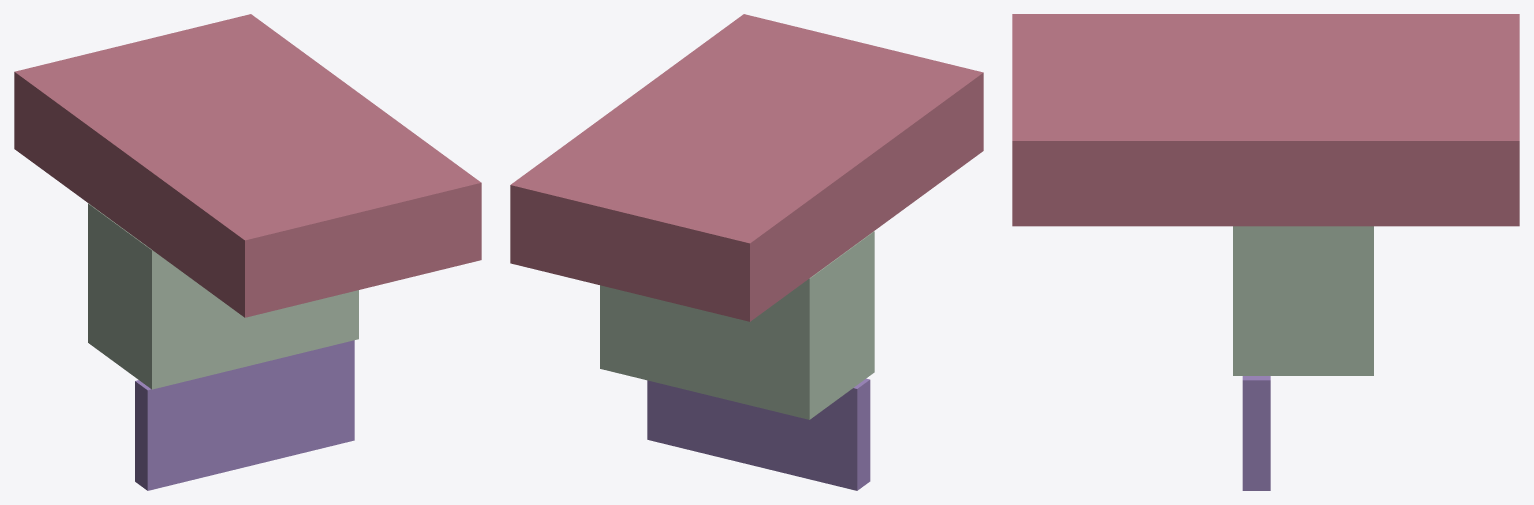
3 views of the same model, side by side, from view 1: azimuth 30°, elevation 25°; view 2: azimuth 150°, elevation 25°; view 3: azimuth 270°, elevation 25° (orthographic). The views are drawn at different scales.
Visible parts, largest first — view 1: world; view 2: world; view 3: world.
Part boxes in pixels (bbox=[...]): world: bbox=[14, 14, 481, 490]; world: bbox=[510, 14, 983, 490]; world: bbox=[1012, 14, 1519, 490].
Size of the model in its own units: 3.2 by 4.25 by 5.4.
